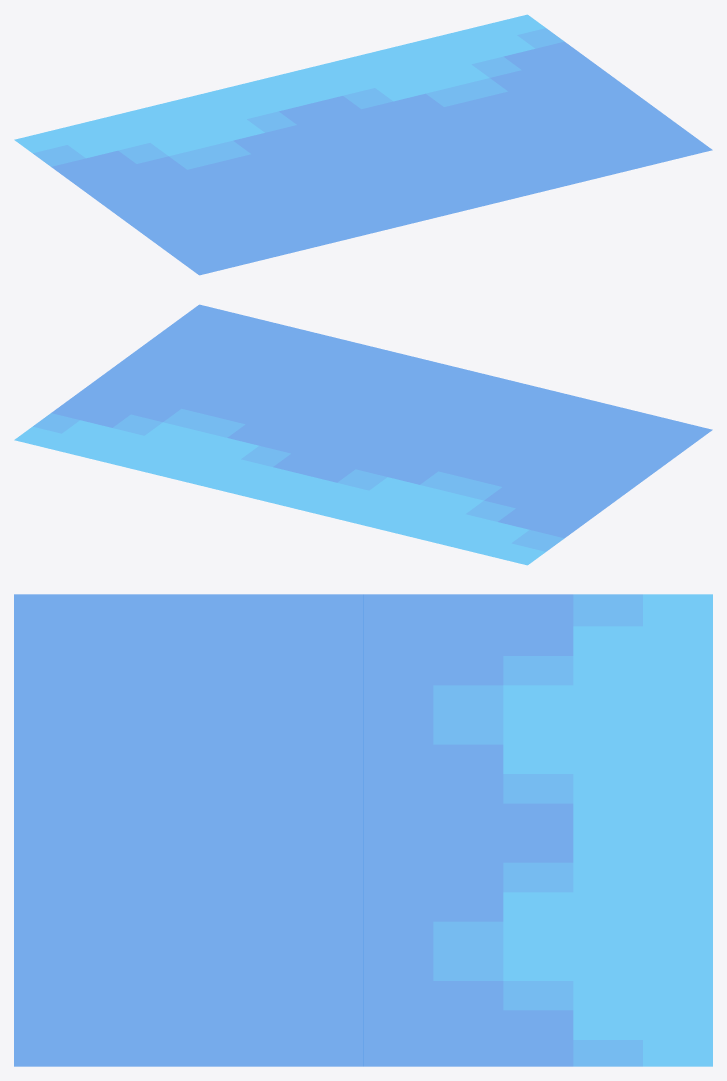
The picture shows the model from 3 angles, top to bottom: view 1: azimuth 30°, elevation 25°; view 2: azimuth 150°, elevation 25°; view 3: azimuth 270°, elevation 25°; orthographic projection. The views are drawn at different scales.
Bounding box in the file's own units: 1 × 0 × 0.625.
Materials: 1 (1 with a texture image).
